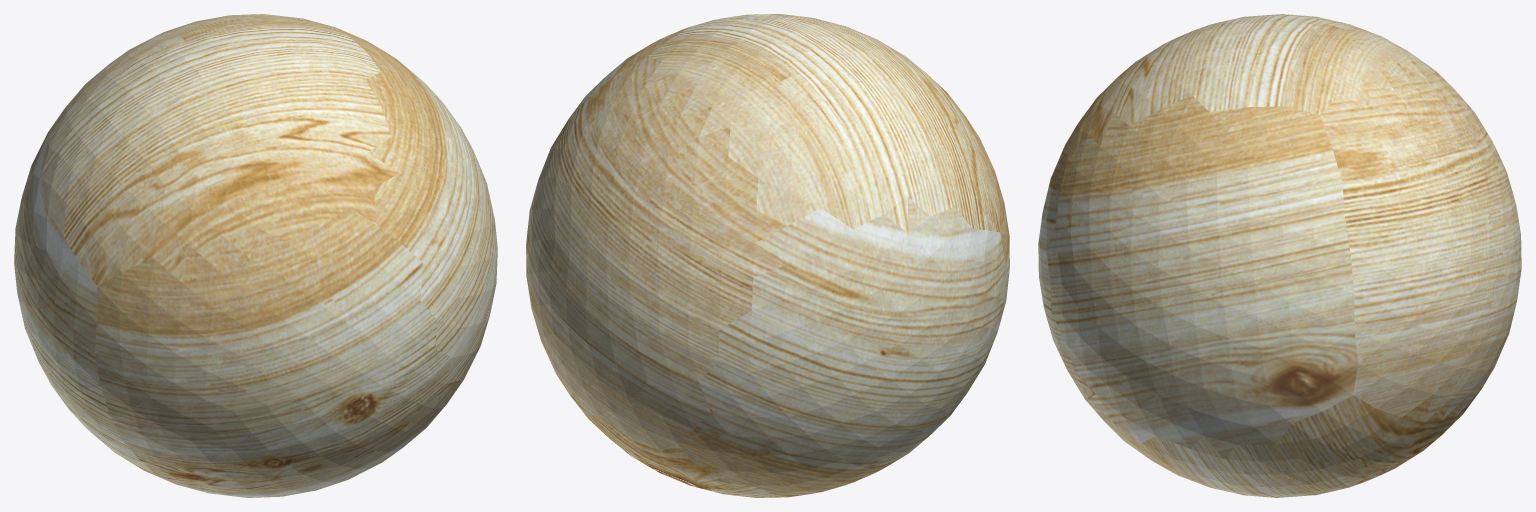
The picture shows the model from 3 angles, left to right: view 1: azimuth 30°, elevation 25°; view 2: azimuth 150°, elevation 25°; view 3: azimuth 270°, elevation 25°; orthographic projection.
Parts seen in each view (by area): view 1: Sphere; view 2: Sphere; view 3: Sphere.
Boxes of the visible parts, <box> form: Sphere: <box>14,14,497,497</box>; Sphere: <box>526,14,1009,497</box>; Sphere: <box>1038,14,1521,497</box>.
Size of the model in its own units: 1.99 by 2 by 2.
1 material, 1 textured.
